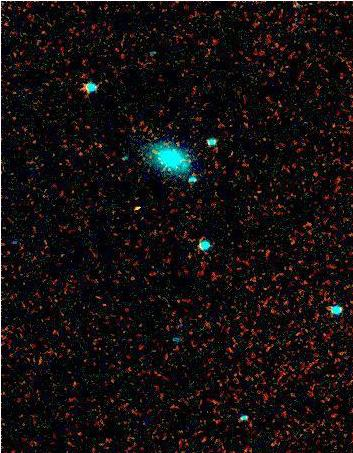star: (130, 201, 160, 231)
